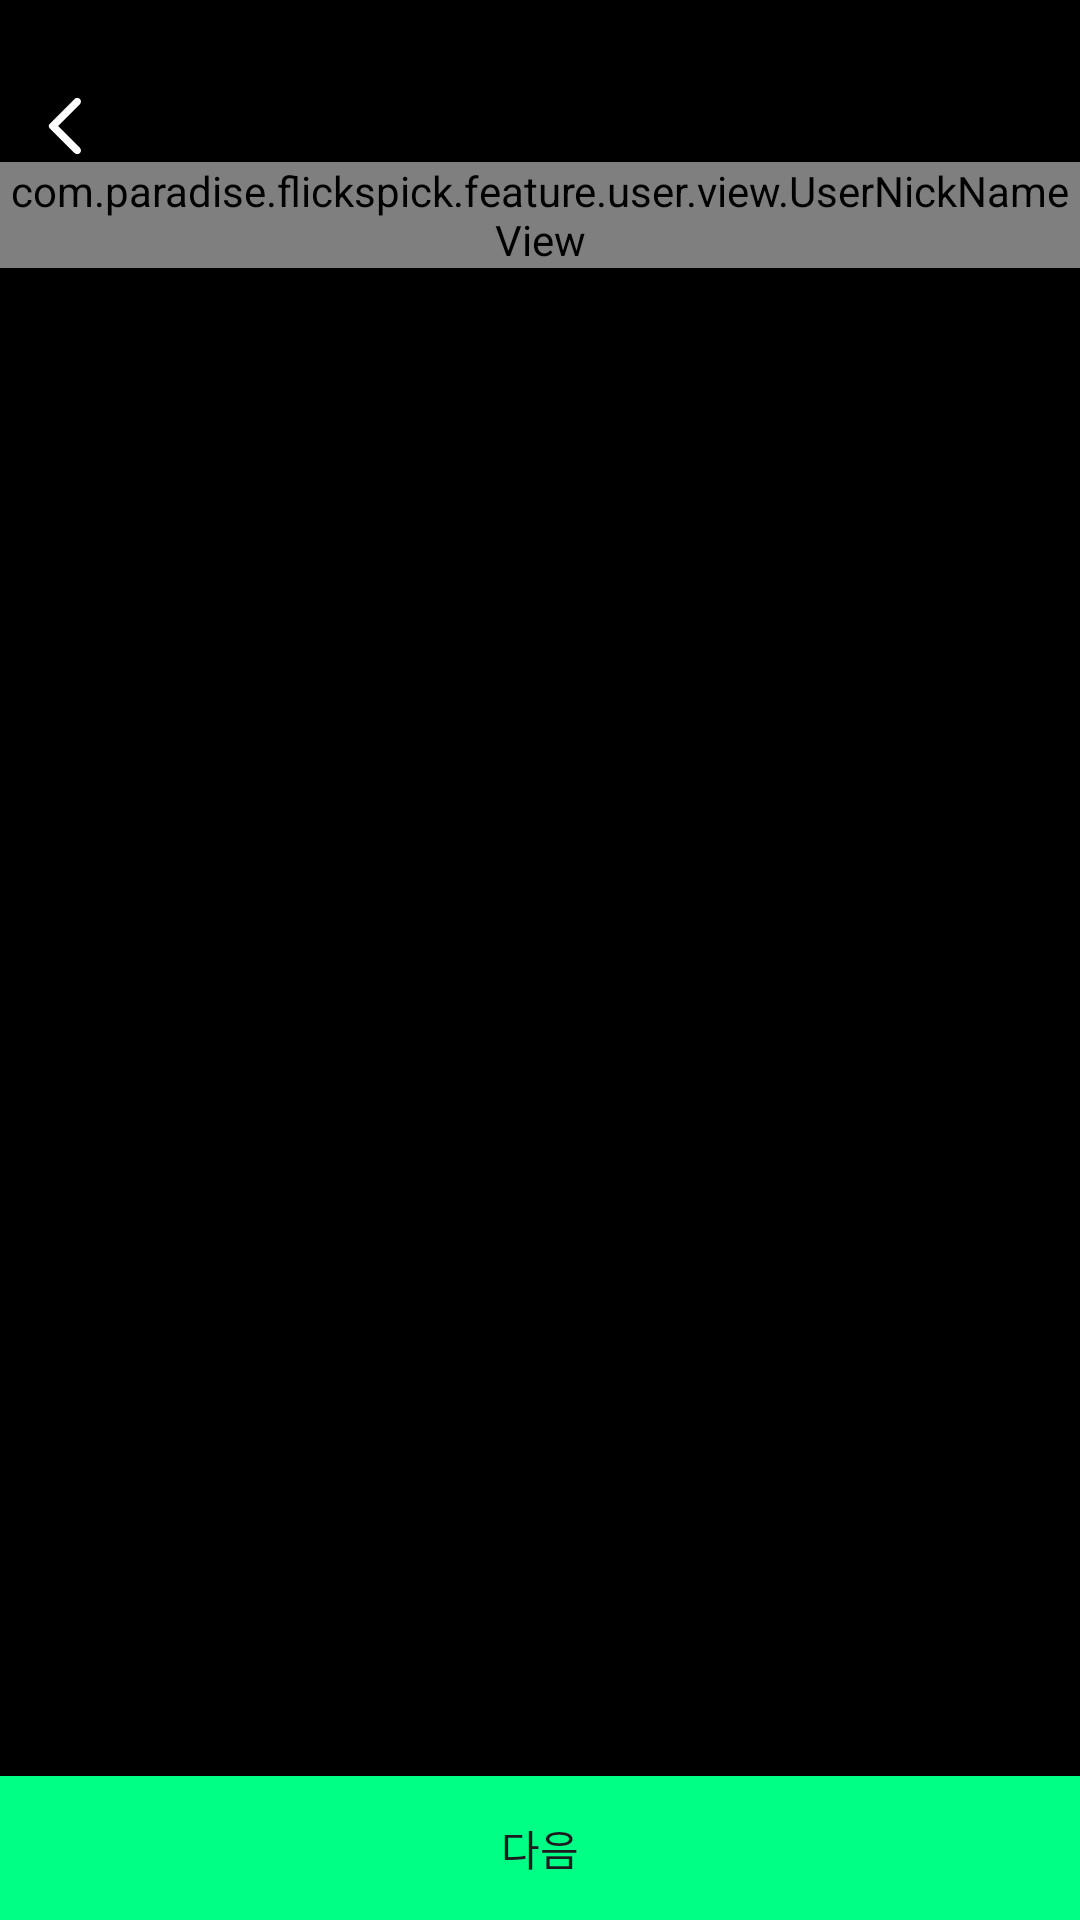

Icon click points for this 1080px x 1920px phone screenshot, format (x=x, y=y):
back: (x=64, y=126)
